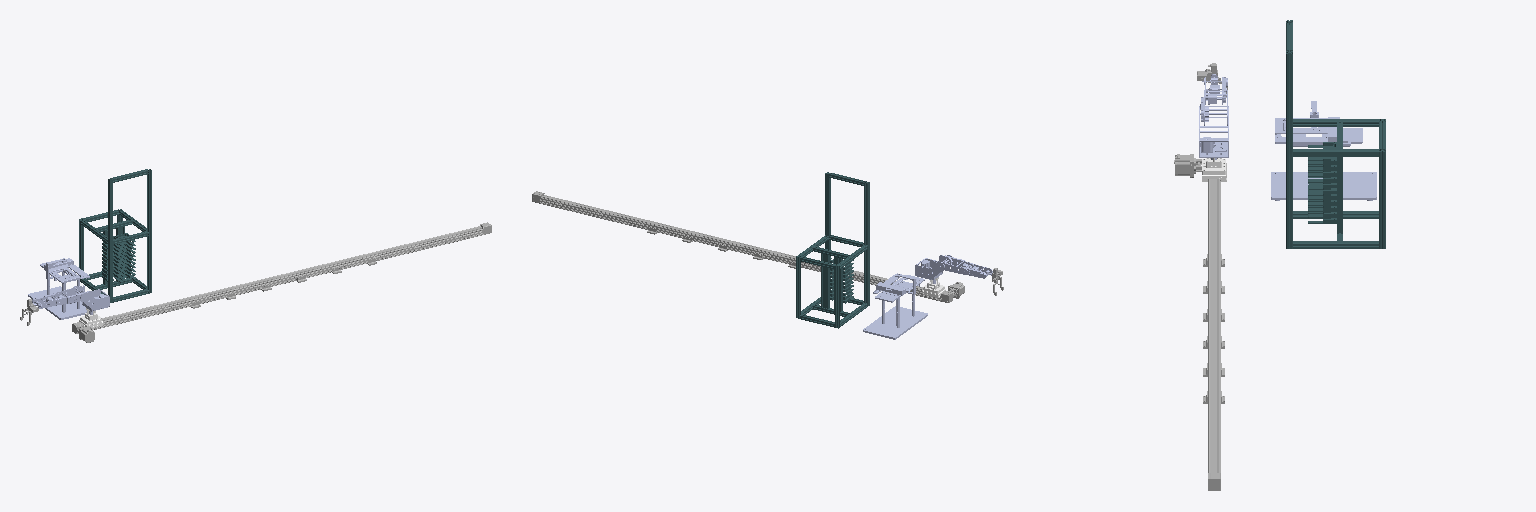
The robot description file, URDF, robot "Digital_twin_lab-2":
<?xml version="1.0" encoding="utf-8"?>
<!-- This URDF was automatically created by SolidWorks to URDF Exporter! Originally created by [author] ([email redacted]) 
     Commit Version: 1.6.0-4-g7f85cfe  Build Version: 1.6.7995.38578
     For more information, please see http://wiki.ros.org/sw_urdf_exporter -->
<robot
  name="Digital_twin_lab-2">
  <link
    name="base_link">
    <inertial>
      <origin
        xyz="0.906506607373006 -1.11864782435858 -0.0645903984698896"
        rpy="0 0 0" />
      <mass
        value="199.387495804579" />
      <inertia
        ixx="10.5663994006333"
        ixy="1.27796504504511E-10"
        ixz="2.82196582358364E-10"
        iyy="42.9922092220749"
        iyz="7.13111678705662E-12"
        izz="52.3668102113991" />
    </inertial>
    <visual>
      <origin
        xyz="0 0 0"
        rpy="0 0 0" />
      <geometry>
        <mesh
          filename="package://Digital_twin_lab-2/meshes/base_link.STL" />
      </geometry>
      <material
        name="base">
        <color
          rgba="0.252941176470588 0.252941176470588 0.252941176470588 1" />
      </material>
    </visual>
    <collision>
      <origin
        xyz="0 0 0"
        rpy="0 0 0" />
      <geometry>
        <mesh
          filename="package://Digital_twin_lab-2/meshes/base_link.STL" />
      </geometry>
    </collision>
  </link>
  <link
    name="SlideRail">
    <inertial>
      <origin
        xyz="0.866665161394367 0.200928921167978 -1.43995243789587"
        rpy="0 0 0" />
      <mass
        value="9.10141973800531" />
      <inertia
        ixx="7.2200527077908"
        ixy="6.58677957674569E-06"
        ixz="2.47766910422405E-07"
        iyy="7.22100259175683"
        iyz="-2.22783563372611E-08"
        izz="0.00462584403154548" />
    </inertial>
    <visual>
      <origin
        xyz="0 0 0"
        rpy="0 0 0" />
      <geometry>
        <mesh
          filename="package://Digital_twin_lab-2/meshes/SlideRail.STL" />
      </geometry>
      <material
        name="">
        <color
          rgba="0.752941176470588 0.752941176470588 0.752941176470588 1" />
      </material>
    </visual>
    <collision>
      <origin
        xyz="0 0 0"
        rpy="0 0 0" />
      <geometry>
        <mesh
          filename="package://Digital_twin_lab-2/meshes/SlideRail.STL" />
      </geometry>
    </collision>
  </link>
  <joint
    name="SlideRail-j"
    type="fixed">
    <origin
      xyz="2.2044 -0.31797 0.29704"
      rpy="-1.5708 0 -1.5708" />
    <parent
      link="base_link" />
    <child
      link="SlideRail" />
    <axis
      xyz="0 0 0" />
  </joint>
  <link
    name="RobotBase">
    <inertial>
      <origin
        xyz="-0.00404752744529402 0.0637675180517647 0.0724834929980328"
        rpy="0 0 0" />
      <mass
        value="1.14266042467365" />
      <inertia ixx="2.569" ixy="0.001" ixz="0.089" iyy="2.510" iyz="0.002" izz="1.261"/>
    </inertial>
    <visual>
      <origin
        xyz="0 0 0"
        rpy="0 0 0" />
      <geometry>
        <mesh
          filename="package://Digital_twin_lab-2/meshes/RobotBase.STL" />
      </geometry>
      <material
        name="">
        <color
          rgba="1 1 1 1" />
      </material>
    </visual>
    <collision>
      <origin
        xyz="0 0 0"
        rpy="0 0 0" />
      <geometry>
        <mesh
          filename="package://Digital_twin_lab-2/meshes/RobotBase.STL" />
      </geometry>
    </collision>
  </link>
  <joint
    name="RobotBase-j"
    type="prismatic">
    <origin
      xyz="0.8613 0.2115 -2.8602"
      rpy="3.1416 0 0" />
    <parent
      link="SlideRail" />
    <child
      link="RobotBase" />
    <axis
      xyz="0 0 1" />
    <limit
      lower="-3.4"
      upper="0"
      effort="0"
      velocity="0" />
  </joint>
  <link
    name="arm1">
    <inertial>
      <origin
        xyz="0.00685553937981664 0.113055754742752 -0.0319364397196832"
        rpy="0 0 0" />
      <mass
        value="0.675270731859806" />
      <inertia ixx="28.253" ixy="0.0" ixz="-22.783" iyy="53.228" iyz="0.0" izz="34.568"/>
    </inertial>
    <visual>
      <origin
        xyz="0 0 0"
        rpy="0 0 0" />
      <geometry>
        <mesh
          filename="package://Digital_twin_lab-2/meshes/arm1.STL" />
      </geometry>
      <material
        name="arm">
        <color
          rgba="0.792156862745098 0.819607843137255 0.933333333333333 1" />
      </material>
    </visual>
    <collision>
      <origin
        xyz="0 0 0"
        rpy="0 0 0" />
      <geometry>
        <mesh
          filename="package://Digital_twin_lab-2/meshes/arm1.STL" />
      </geometry>
    </collision>
  </link>
  <joint
    name="arm1-j"
    type="revolute">
    <origin
      xyz="-0.0041396 0.095257 0.072641"
      rpy="0 0 0" />
    <parent
      link="RobotBase" />
    <child
      link="arm1" />
    <axis
      xyz="0 1 0" />
    <limit
      lower="-175"
      upper="180"
      effort="0"
      velocity="0" />
  </joint>
  <link
    name="arm2">
    <inertial>
      <origin
        xyz="0.00934921836749636 0.050968485668847 -6.27171795658521E-06"
        rpy="0 0 0" />
      <mass
        value="0.271676192230461" />
      <inertia ixx="1.049" ixy="0.0" ixz="0.0" iyy="7.829" iyz="0.0" izz="8.685"/>
    </inertial>
    <visual>
      <origin
        xyz="0 0 0"
        rpy="0 0 0" />
      <geometry>
        <mesh
          filename="package://Digital_twin_lab-2/meshes/arm2.STL" />
      </geometry>
      <material
        name="arm">
        <color
          rgba="0.792156862745098 0.819607843137255 0.933333333333333 1" />
      </material>
    </visual>
    <collision>
      <origin
        xyz="0 0 0"
        rpy="0 0 0" />
      <geometry>
        <mesh
          filename="package://Digital_twin_lab-2/meshes/arm2.STL" />
      </geometry>
    </collision>
  </link>
  <joint
    name="arm2-j"
    type="revolute">
    <origin
      xyz="0 0.19707 0.095476"
      rpy="1.5708 0 0" />
    <parent
      link="arm1" />
    <child
      link="arm2" />
    <axis
      xyz="1 0 0" />
    <limit
      lower="-90"
      upper="180"
      effort="0"
      velocity="0" />
  </joint>
  <link
    name="arm3">
    <inertial>
      <origin
        xyz="-0.00340437043110531 -5.11241685569042E-06 0.0310100738015653"
        rpy="0 0 0" />
      <mass
        value="0.293438315475955" />
      <inertia ixx="1.467" ixy="0.0" ixz="0.0" iyy="10.271" iyz="0.0" izz="11.492"/>
    </inertial>
    <visual>
      <origin
        xyz="0 0 0"
        rpy="0 0 0" />
      <geometry>
        <mesh
          filename="package://Digital_twin_lab-2/meshes/arm3.STL" />
      </geometry>
      <material
        name="">
        <color
          rgba="0.792156862745098 0.819607843137255 0.933333333333333 1" />
      </material>
    </visual>
    <collision>
      <origin
        xyz="0 0 0"
        rpy="0 0 0" />
      <geometry>
        <mesh
          filename="package://Digital_twin_lab-2/meshes/arm3.STL" />
      </geometry>
    </collision>
  </link>
  <joint
    name="arm3-j"
    type="revolute">
    <origin
      xyz="0 0.2032 0"
      rpy="-1.5708 0 0" />
    <parent
      link="arm2" />
    <child
      link="arm3" />
    <axis
      xyz="1 0 0" />
    <limit
      lower="-142"
      upper="142"
      effort="0"
      velocity="0" />
  </joint>
  <link
    name="wrist1">
    <inertial>
      <origin
        xyz="-5.1119E-05 5.5335E-07 3.3649E-05"
        rpy="0 0 0" />
      <mass
        value="0.019467" />
      <inertia ixx="0.03" ixy="0.0" ixz="0.0" iyy="0.023" iyz="0.0" izz="0.049"/>
    </inertial>
    <visual>
      <origin
        xyz="0 0 0"
        rpy="0 0 0" />
      <geometry>
        <mesh
          filename="package://Digital_twin_lab-2/meshes/wrist1.STL" />
      </geometry>
      <material
        name="">
        <color
          rgba="0.79216 0.81961 0.93333 1" />
      </material>
    </visual>
    <collision>
      <origin
        xyz="0 0 0"
        rpy="0 0 0" />
      <geometry>
        <mesh
          filename="package://Digital_twin_lab-2/meshes/wrist1.STL" />
      </geometry>
    </collision>
  </link>
  <joint
    name="wrist1-j"
    type="revolute">
    <origin
      xyz="0 0 0.1524"
      rpy="0.016592 0 -3.1416" />
    <parent
      link="arm3" />
    <child
      link="wrist1" />
    <axis
      xyz="1 0 0" />
    <limit
      lower="-135"
      upper="135"
      effort="0"
      velocity="0" />
  </joint>
  <link
    name="wrist2">
    <inertial>
      <origin
        xyz="-9.74873192043368E-05 0.00113235857781457 0.0343595995073909"
        rpy="0 0 0" />
      <mass
        value="0.0107694009383611" />
      <inertia ixx="0.002" ixy="0.0" ixz="0.0" iyy="0.044" iyz="0.0" izz="0.044"/>
    </inertial>
    <visual>
      <origin
        xyz="0 0 0"
        rpy="0 0 0" />
      <geometry>
        <mesh
          filename="package://Digital_twin_lab-2/meshes/wrist2.STL" />
      </geometry>
      <material
        name="">
        <color
          rgba="0.792156862745098 0.819607843137255 0.933333333333333 1" />
      </material>
    </visual>

  </link>
  <joint
    name="wrist2-j"
    type="revolute">
    <origin
      xyz="0 0 0"
      rpy="0 0 0" />
    <parent
      link="wrist1" />
    <child
      link="wrist2" />
    <axis
      xyz="0 0.016592 0.99986" />
    <limit
      lower="360"
      upper="350"
      effort="0"
      velocity="0" />
  </joint>
  <link
    name="gripper">
    <inertial>
      <origin
        xyz="1.10282947725766 -0.0701169459120974 2.78560724279916"
        rpy="0 0 0" />
      <mass
        value="1.24999135313939" />
      <inertia ixx="0.002" ixy="0.0" ixz="0.0" iyy="0.044" iyz="0.0" izz="0.044"/>
    </inertial>
    <visual>
      <origin
        xyz="0 0 0"
        rpy="0 0 0" />
      <geometry>
        <mesh
          filename="package://Digital_twin_lab-2/meshes/gripper.STL" />
      </geometry>
      <material
        name="">
        <color
          rgba="0.752941176470588 0.752941176470588 0.752941176470588 1" />
      </material>
    </visual>

  </link>
  <joint
    name="gripper-j"
    type="fixed">
    <origin
      xyz="-2.73703670415686 1.09480351822385 -0.0213981660270632"
      rpy="-1.57079632964652 -0.0165923813541522 -1.57079615491364" />
    <parent
      link="wrist2" />
    <child
      link="gripper" />
    <axis
      xyz="0 0 0" />
  </joint>
  <link
    name="squid1">
    <inertial>
      <origin
        xyz="0.00217519723344894 0.107745951384962 -0.0152297106388053"
        rpy="0 0 0" />
      <mass
        value="3.63619504672605" />
      <inertia
        ixx="0.0528314659485867"
        ixy="-3.98656771778607E-06"
        ixz="-0.000282892683176612"
        iyy="0.0673167761503227"
        iyz="6.61872461981687E-07"
        izz="0.0195251698514205" />
    </inertial>
    <visual>
      <origin
        xyz="0 0 0"
        rpy="0 0 0" />
      <geometry>
        <mesh
          filename="package://Digital_twin_lab-2/meshes/squid1.STL" />
      </geometry>
      <material
        name="">
        <color
          rgba="0.792156862745098 0.819607843137255 0.933333333333333 1" />
      </material>
    </visual>

  </link>
  <joint
    name="squid-j"
    type="fixed">
    <origin
      xyz="-0.69586 -0.66731 0.059932"
      rpy="1.5708 0 3.1416" />
    <parent
      link="base_link" />
    <child
      link="squid1" />
    <axis
      xyz="0 0 0" />
  </joint>
  <link
    name="microplate_incubator">
    <inertial>
      <origin
        xyz="-0.166432525066334 0.314375603156406 -0.182353009501486"
        rpy="0 0 0" />
      <mass
        value="4.15140484031969" />
      <inertia
        ixx="0.0412959434046891"
        ixy="-2.28349994456826E-06"
        ixz="2.87903526488927E-05"
        iyy="0.0175131319455678"
        iyz="9.74814592294234E-05"
        izz="0.039296810124074" />
    </inertial>
    <visual>
      <origin
        xyz="0 0 0"
        rpy="0 0 0" />
      <geometry>
        <mesh
          filename="package://Digital_twin_lab-2/meshes/microplate_incubator.STL" />
      </geometry>
      <material
        name="incubator">
        <color
          rgba="0.292156862745098 0.419607843137255 0.433333333333333 1" />
      </material>
    </visual>

  </link>
  <joint
    name="microplate_incubator-j"
    type="fixed">
    <origin
      xyz="-0.032512 -0.82567 0.0612"
      rpy="1.5708 0 0" />
    <parent
      link="base_link" />
    <child
      link="microplate_incubator" />
    <axis
      xyz="0 0 0" />
  </joint>

</robot>

--- Facts derived from the render (not from the file) ---
The picture shows the robot from 3 angles, left to right: view 1: azimuth 30°, elevation 25°; view 2: azimuth 150°, elevation 25°; view 3: azimuth 270°, elevation 25°; orthographic projection.
Robot: Digital_twin_lab-2 — 11 links, 10 joints (5 revolute, 1 prismatic, 4 fixed); root link base_link; default pose: joints at zero except 1 at the middle of their limits (wrist2-j = 355).
Links seen in each view (by area): view 1: SlideRail, microplate_incubator, squid1; view 2: microplate_incubator, SlideRail, squid1; view 3: microplate_incubator, SlideRail, squid1, arm1, RobotBase.
Link boxes in pixels (left/top/right/bottom): SlideRail: left=72, top=222, right=491, bottom=342; microplate_incubator: left=79, top=169, right=151, bottom=302; squid1: left=28, top=258, right=89, bottom=319; microplate_incubator: left=796, top=172, right=869, bottom=328; SlideRail: left=532, top=191, right=964, bottom=302; squid1: left=863, top=273, right=927, bottom=339; microplate_incubator: left=1286, top=20, right=1385, bottom=248; SlideRail: left=1174, top=154, right=1224, bottom=490; squid1: left=1271, top=101, right=1376, bottom=200; arm1: left=1199, top=106, right=1228, bottom=159; RobotBase: left=1202, top=158, right=1226, bottom=181.
Size in the robot's own frame: 3.95 by 0.9786 by 1.01 metres.
Meshes: 11 distinct files referenced, 10 mesh visuals loaded (10 binary STL); not drawn: 1 (reference not matched to a file when rendering).
